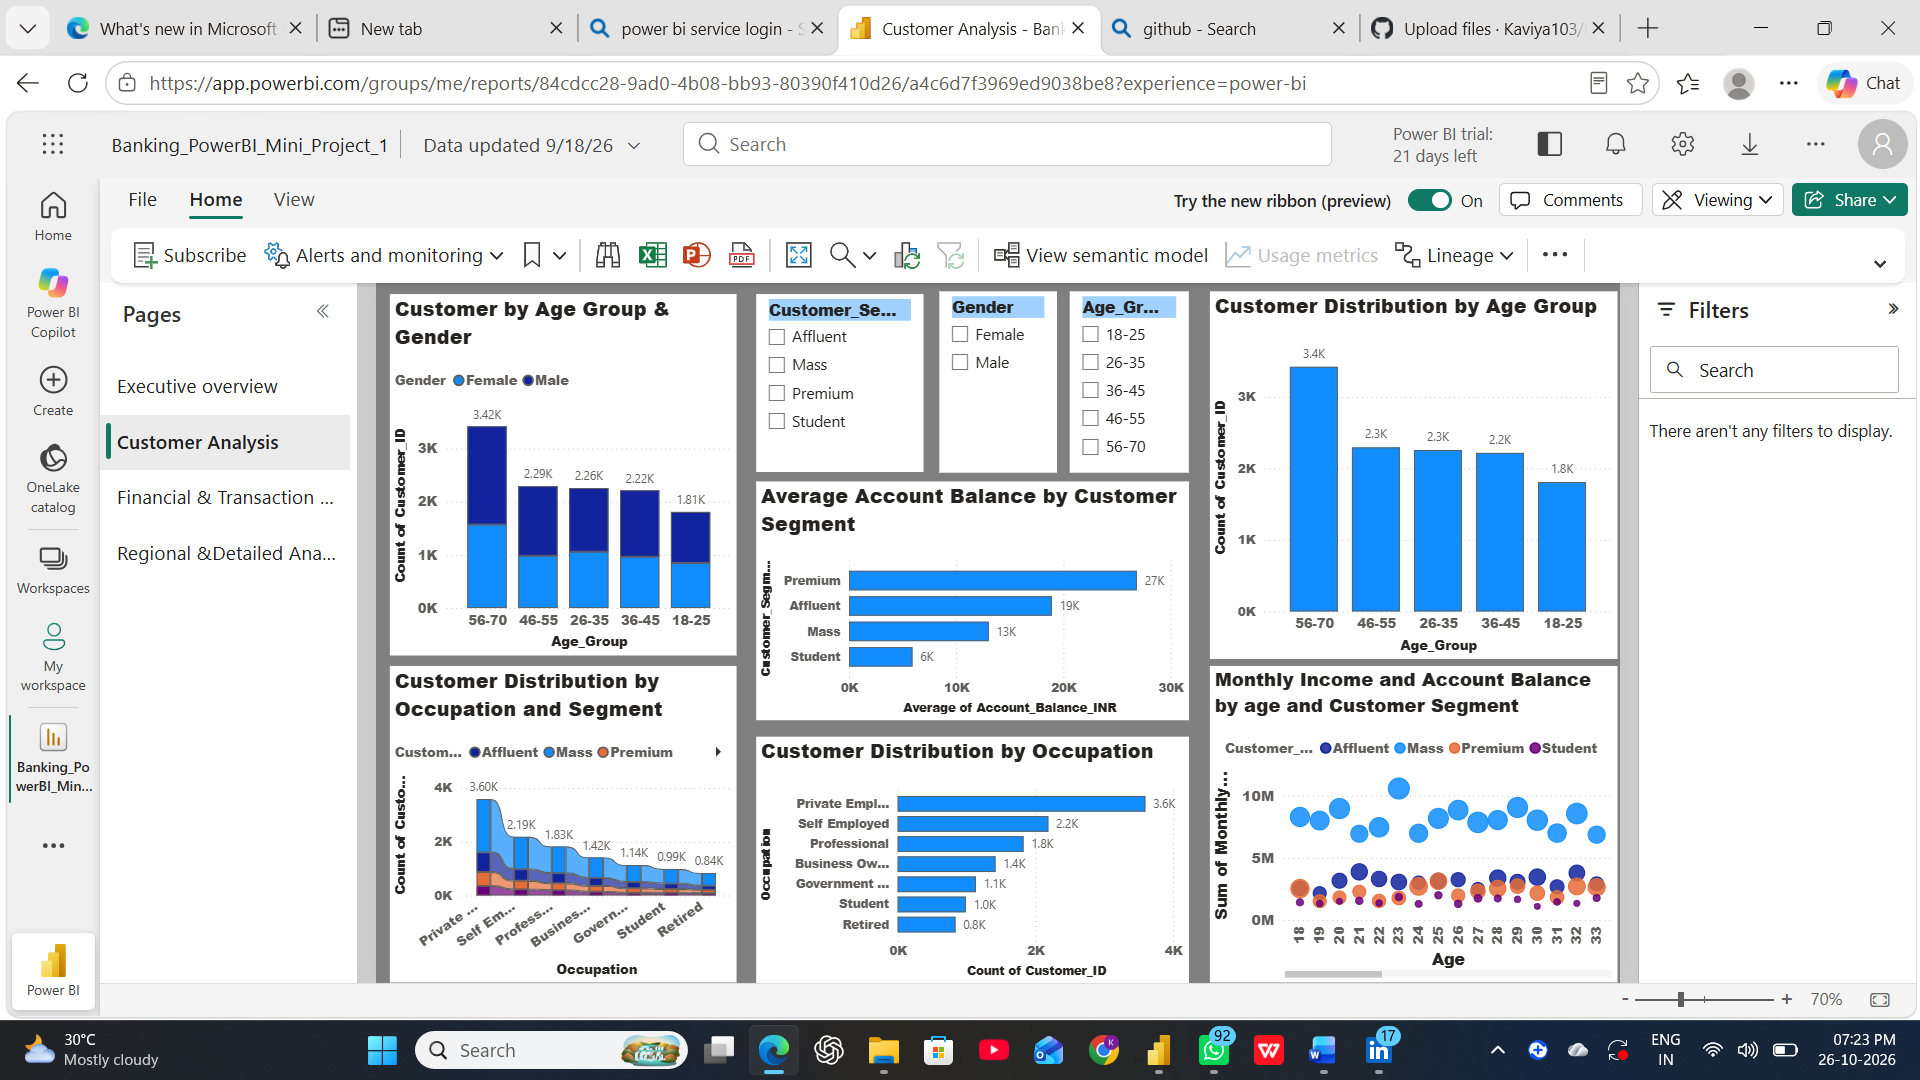

The page's visual inventory and layout, read from the dashboard file:
{"tool":"powerbi","page":{"name":"Customer Analysis","canvas":[1280,720],"ordinal":1},"visuals":[{"type":"columnChart","title":"Customer  by Age  Group & Gender","fields":{"Category":["Banking_Customer_Insights_Dataset-1.Age_Group"],"Series":["Banking_Customer_Insights_Dataset-1.Gender"],"Y":["Count(Banking_Customer_Insights_Dataset-1.Customer_ID)"]},"box":[14.7,11.5,357,371.7],"z":0},{"type":"clusteredColumnChart","title":"Customer Distribution by Age Group","fields":{"Category":["Banking_Customer_Insights_Dataset-1.Age_Group"],"Y":["Count(Banking_Customer_Insights_Dataset-1.Customer_ID)"]},"box":[858.1,8.2,419.2,378.3],"z":1000},{"type":"barChart","title":"Average Account Balance by Customer Segment","fields":{"Category":["Banking_Customer_Insights_Dataset-1.Customer_Segment"],"Y":["Avg(Banking_Customer_Insights_Dataset-1.Account_Balance_INR)"]},"box":[391.4,204.7,445.4,245.6],"z":2000},{"type":"ribbonChart","title":"Customer Distribution by Occupation and Segment","fields":{"Category":["Banking_Customer_Insights_Dataset-1.Occupation"],"Series":["Banking_Customer_Insights_Dataset-1.Customer_Segment"],"Y":["Count(Banking_Customer_Insights_Dataset-1.Customer_ID)"]},"box":[14.7,394.7,357,325.9],"z":3000},{"type":"scatterChart","title":"Monthly Income and  Account Balance by age and Customer Segment ","fields":{"Series":["Banking_Customer_Insights_Dataset-1.Customer_Segment"],"Size":["Sum(Banking_Customer_Insights_Dataset-1.Account_Balance_INR)"],"X":["Banking_Customer_Insights_Dataset-1.Age"],"Y":["Sum(Banking_Customer_Insights_Dataset-1.Monthly_Income_INR)"]},"box":[858.1,394.7,419.2,325.9],"z":4000},{"type":"clusteredBarChart","title":"Customer Distribution by Occupation","fields":{"Category":["Banking_Customer_Insights_Dataset-1.Occupation"],"Y":["Count(Banking_Customer_Insights_Dataset-1.Customer_ID)"]},"box":[391.4,466.7,445.4,253.8],"z":5000},{"type":"slicer","fields":{"Values":["Banking_Customer_Insights_Dataset-1.Age_Group"]},"box":[714,8.2,122.8,186.7],"z":6000},{"type":"slicer","fields":{"Values":["Banking_Customer_Insights_Dataset-1.Gender"]},"box":[579.7,8.2,121.2,186.7],"z":7000},{"type":"slicer","fields":{"Values":["Banking_Customer_Insights_Dataset-1.Customer_Segment"]},"box":[391.4,11.5,172,183.4],"z":8000}]}

Visuals, with their boxes on the page's 1280x720 design canvas (x1, y1, x2, y2). These are canvas units, not pixel positions in the 1920x1080 screenshot, which may show the page scaled, cropped or inside an application window:
"Customer  by Age  Group & Gender" columnChart: (left=15, top=12, right=372, bottom=383)
"Customer Distribution by Age Group" clusteredColumnChart: (left=858, top=8, right=1277, bottom=386)
"Average Account Balance by Customer Segment" barChart: (left=391, top=205, right=837, bottom=450)
"Customer Distribution by Occupation and Segment" ribbonChart: (left=15, top=395, right=372, bottom=721)
"Monthly Income and  Account Balance by age and Customer Segment " scatterChart: (left=858, top=395, right=1277, bottom=721)
"Customer Distribution by Occupation" clusteredBarChart: (left=391, top=467, right=837, bottom=720)
slicer - Banking_Customer_Insights_Dataset-1.Age_Group: (left=714, top=8, right=837, bottom=195)
slicer - Banking_Customer_Insights_Dataset-1.Gender: (left=580, top=8, right=701, bottom=195)
slicer - Banking_Customer_Insights_Dataset-1.Customer_Segment: (left=391, top=12, right=563, bottom=195)
